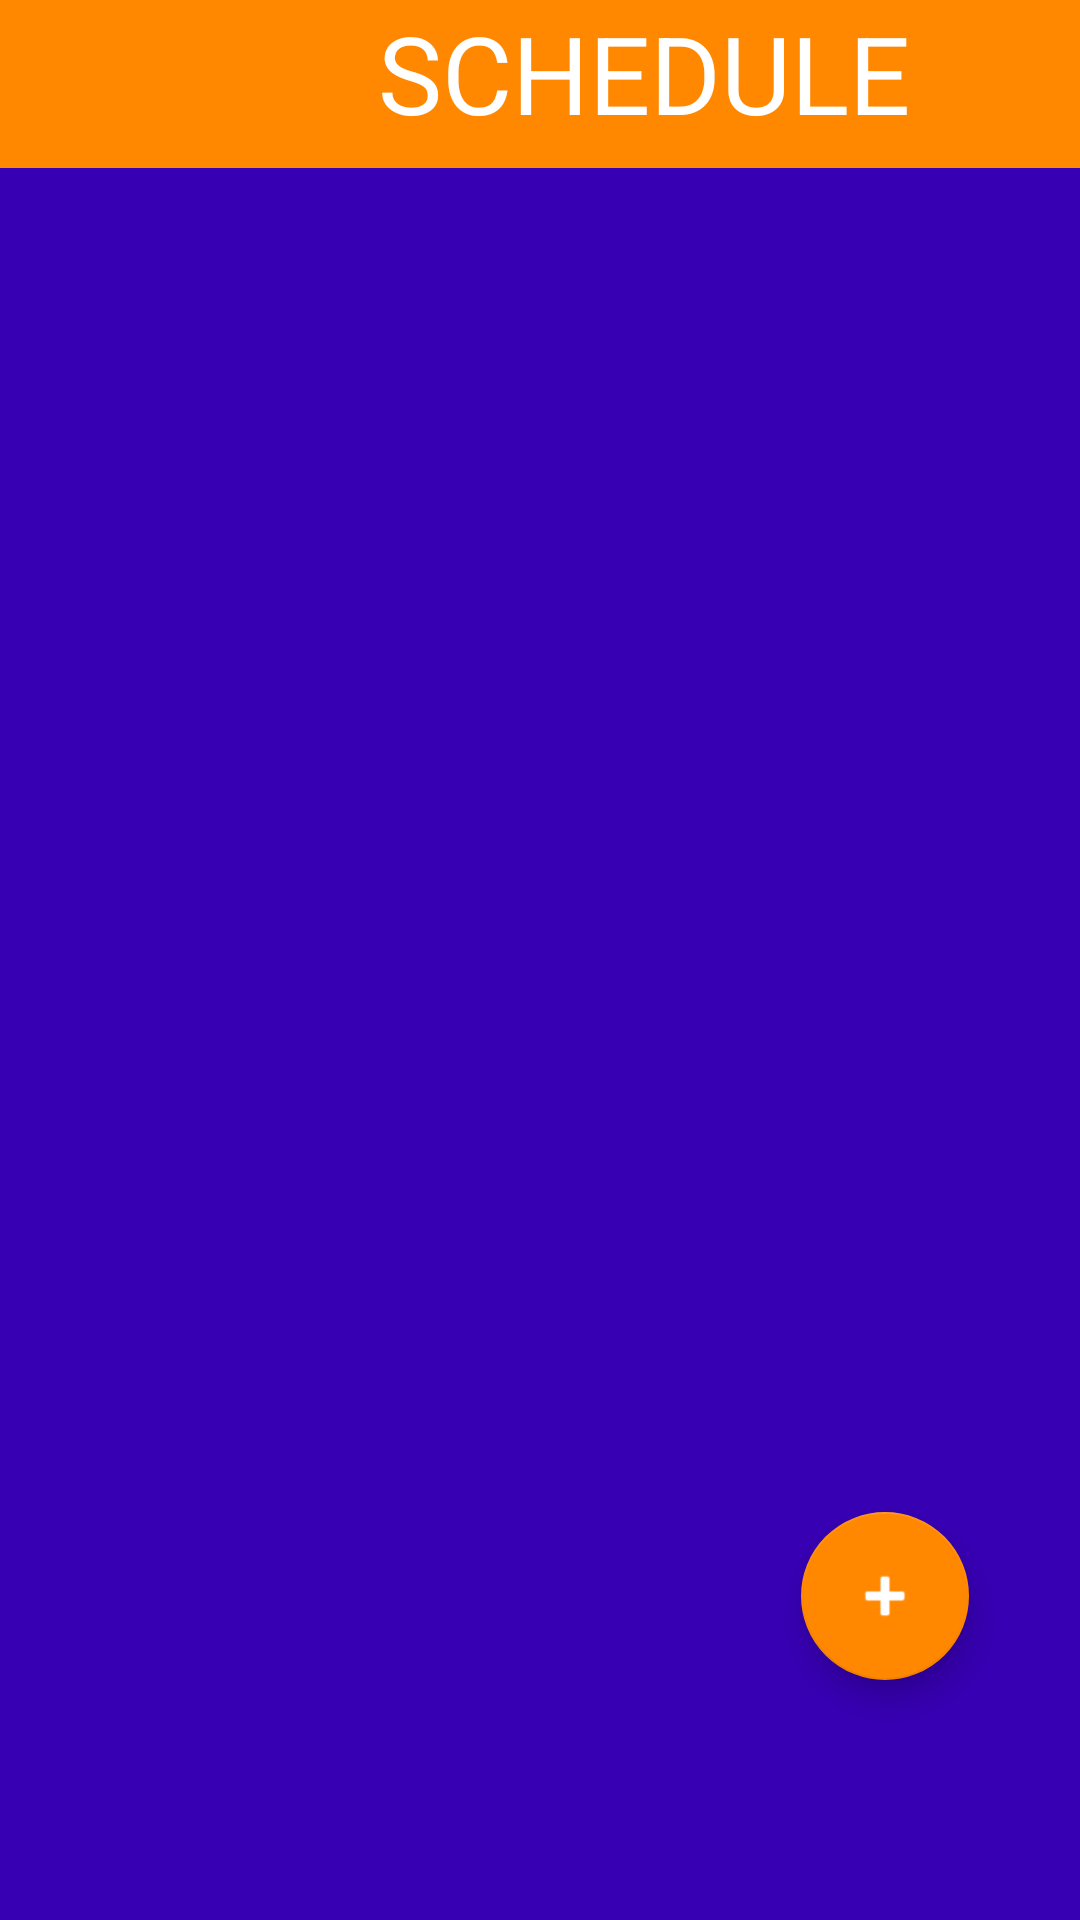

Where to tap for icons on this 1080w x 1920h app screen, as [x,y]:
add: [885,1596]
